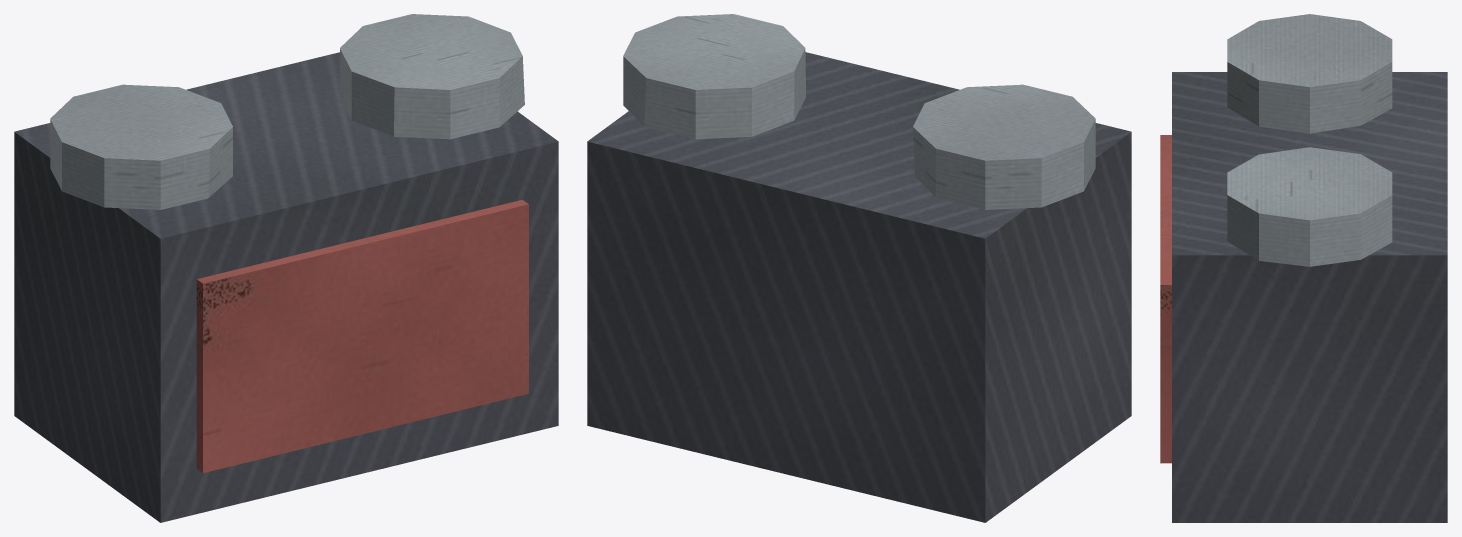
Rendered from alarmclock_v4.glb.
3 renders of one model, left to right at view 1: azimuth 30°, elevation 25°; view 2: azimuth 150°, elevation 25°; view 3: azimuth 270°, elevation 25°, orthographic. The views are drawn at different scales.
Visible parts, largest first — view 1: Variant_alarmclock_4; view 2: Variant_alarmclock_4; view 3: Variant_alarmclock_4.
Part boxes in pixels (bbox=[...]): Variant_alarmclock_4: bbox=[14, 14, 558, 522]; Variant_alarmclock_4: bbox=[587, 14, 1131, 522]; Variant_alarmclock_4: bbox=[1160, 14, 1447, 522].
Bounding box in the file's own units: 0.124 × 0.088 × 0.073.
Materials: 3 (3 with a texture image).
